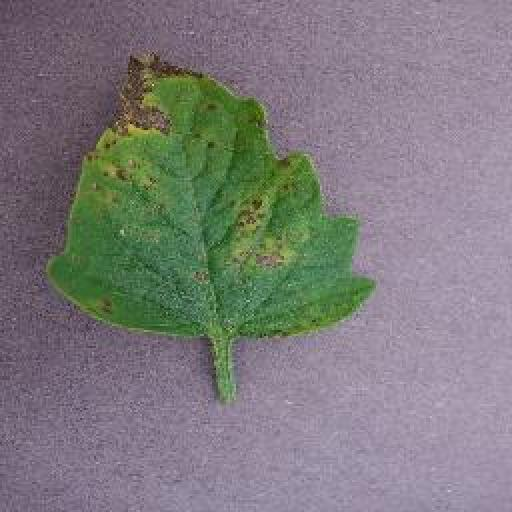Septoria: (48, 48, 378, 343)
